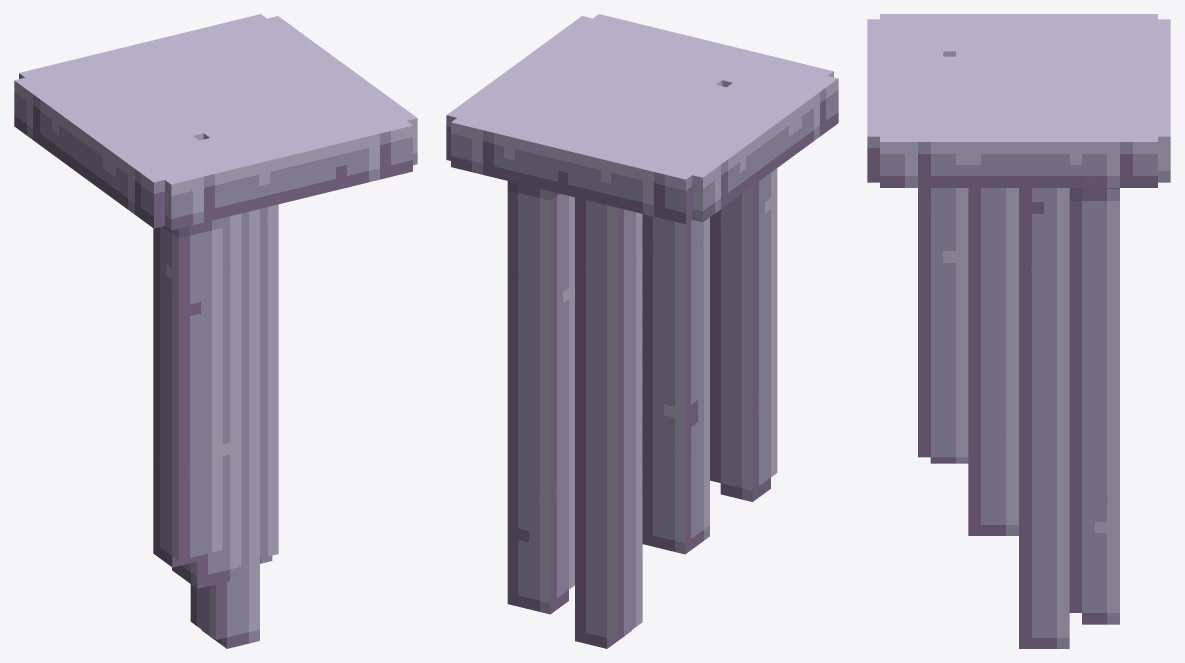
The model's file is lib_stone_pillarao.fezao.glb.
The picture shows the model from 3 angles, left to right: view 1: azimuth 30°, elevation 25°; view 2: azimuth 150°, elevation 25°; view 3: azimuth 270°, elevation 25°; orthographic projection. The views are drawn at different scales.
Visible parts, largest first — view 1: LIB_STONE_PILLARAO; view 2: LIB_STONE_PILLARAO; view 3: LIB_STONE_PILLARAO.
Part boxes in pixels (x1=…): LIB_STONE_PILLARAO: x1=14, y1=14, x2=417, y2=648; LIB_STONE_PILLARAO: x1=446, y1=14, x2=838, y2=648; LIB_STONE_PILLARAO: x1=867, y1=14, x2=1170, y2=648.
Size of the model in its own units: 1.5 by 3 by 1.5.
1 material, 1 textured.
